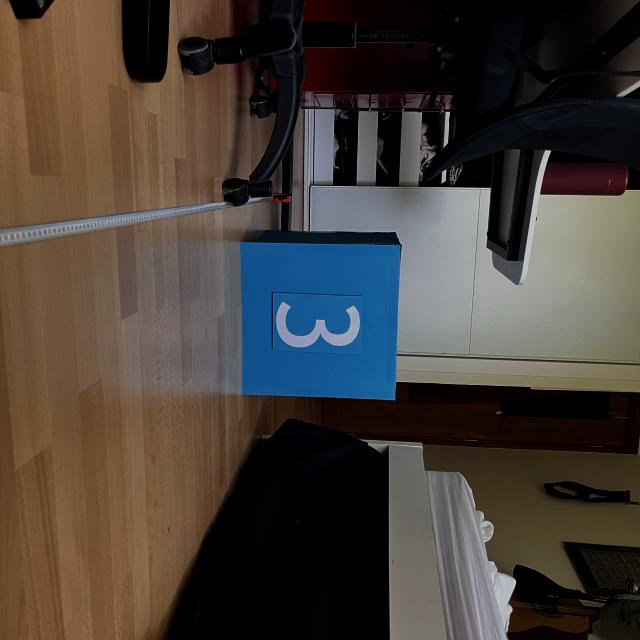box: (236, 226, 404, 402)
